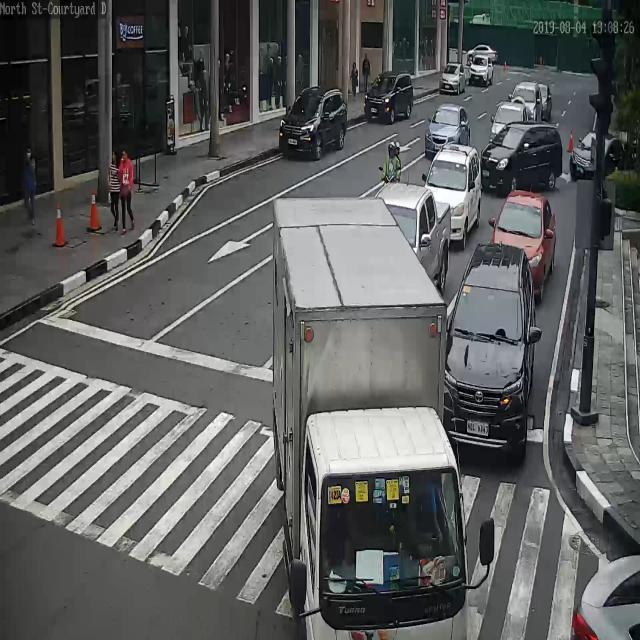car: (445, 242, 536, 459), (375, 182, 449, 287), (491, 192, 555, 299), (571, 552, 640, 640), (425, 141, 482, 245), (480, 121, 562, 191), (277, 85, 348, 159), (570, 130, 625, 179), (365, 72, 415, 123), (445, 93, 486, 141), (491, 101, 533, 146), (514, 80, 544, 121), (439, 64, 466, 93), (469, 55, 493, 87), (541, 80, 554, 121)
jeepney: (382, 140, 402, 187)
motorcycle: (272, 195, 471, 640)
